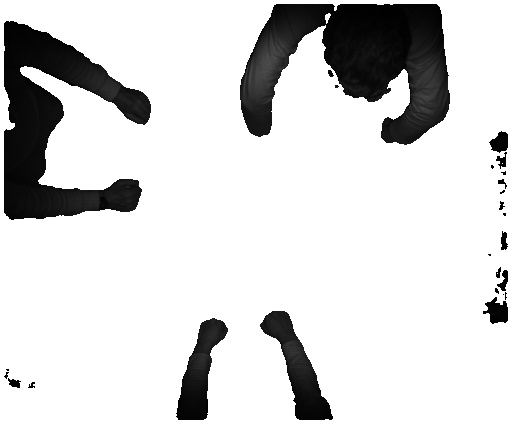fist: (192, 312, 231, 352), (256, 304, 296, 341), (117, 85, 151, 127), (110, 176, 143, 215)
